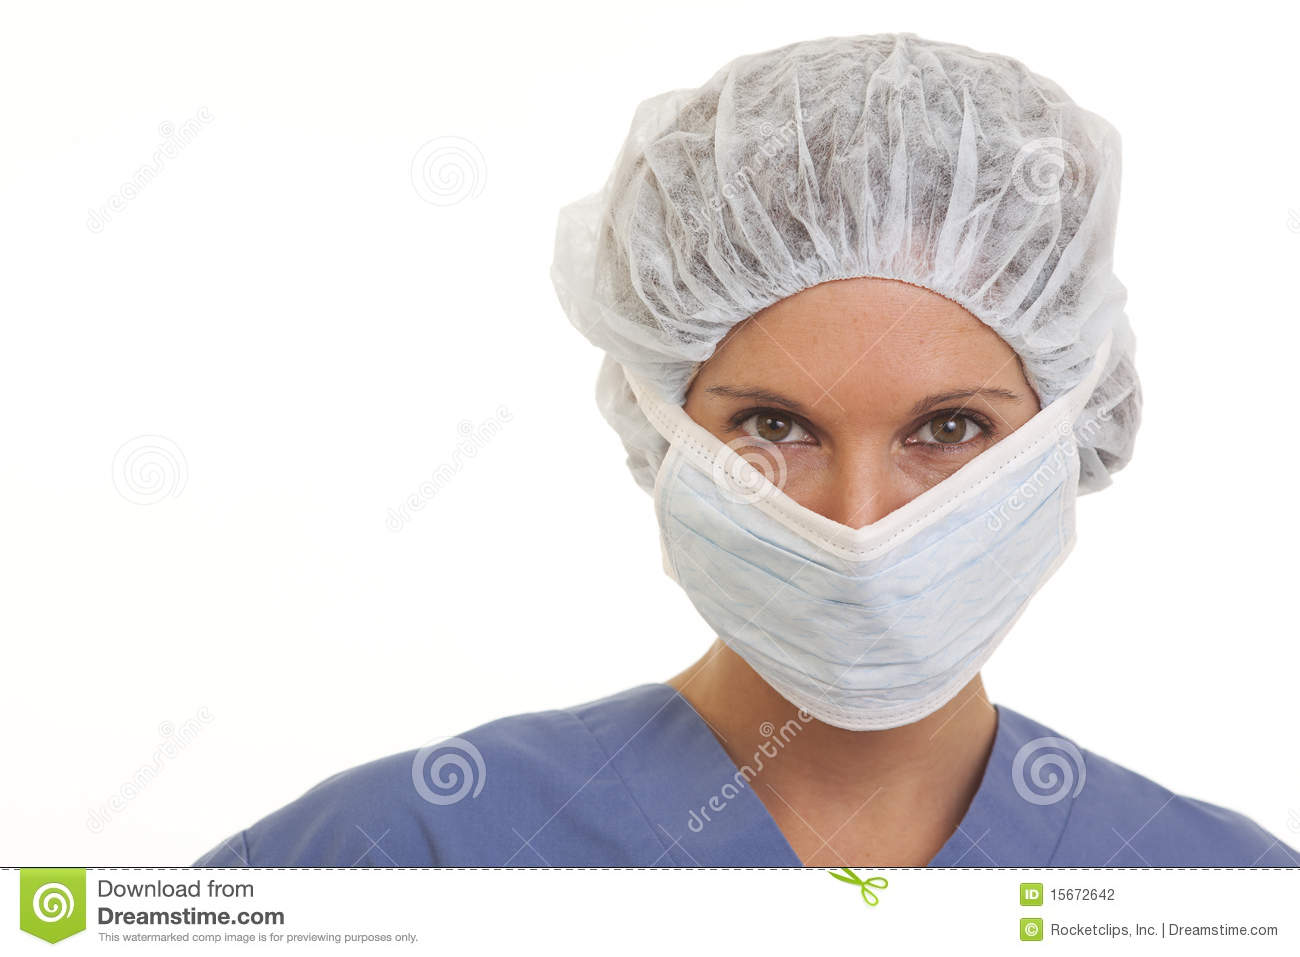mask: (664, 423, 1086, 741)
